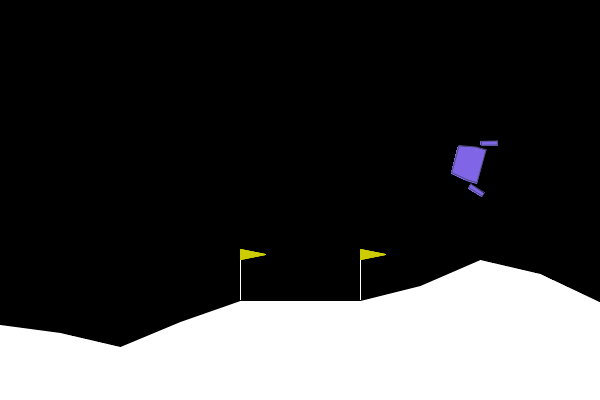lander: (445, 130, 499, 198)
